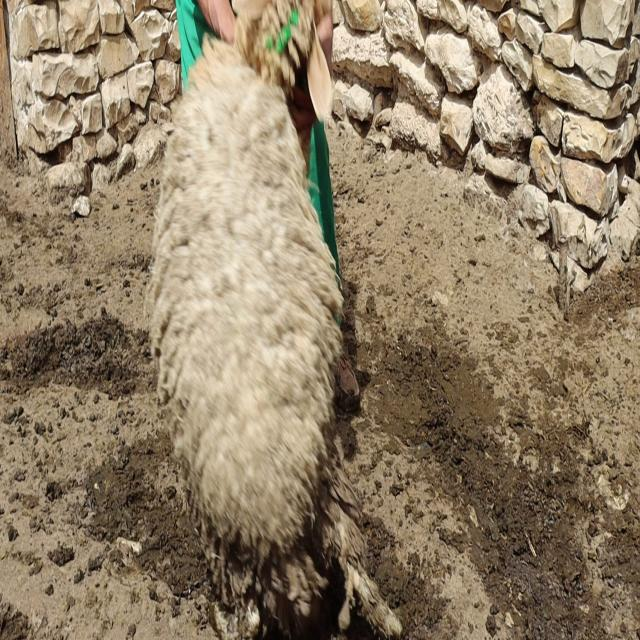Score_2: (145, 0, 401, 637)
